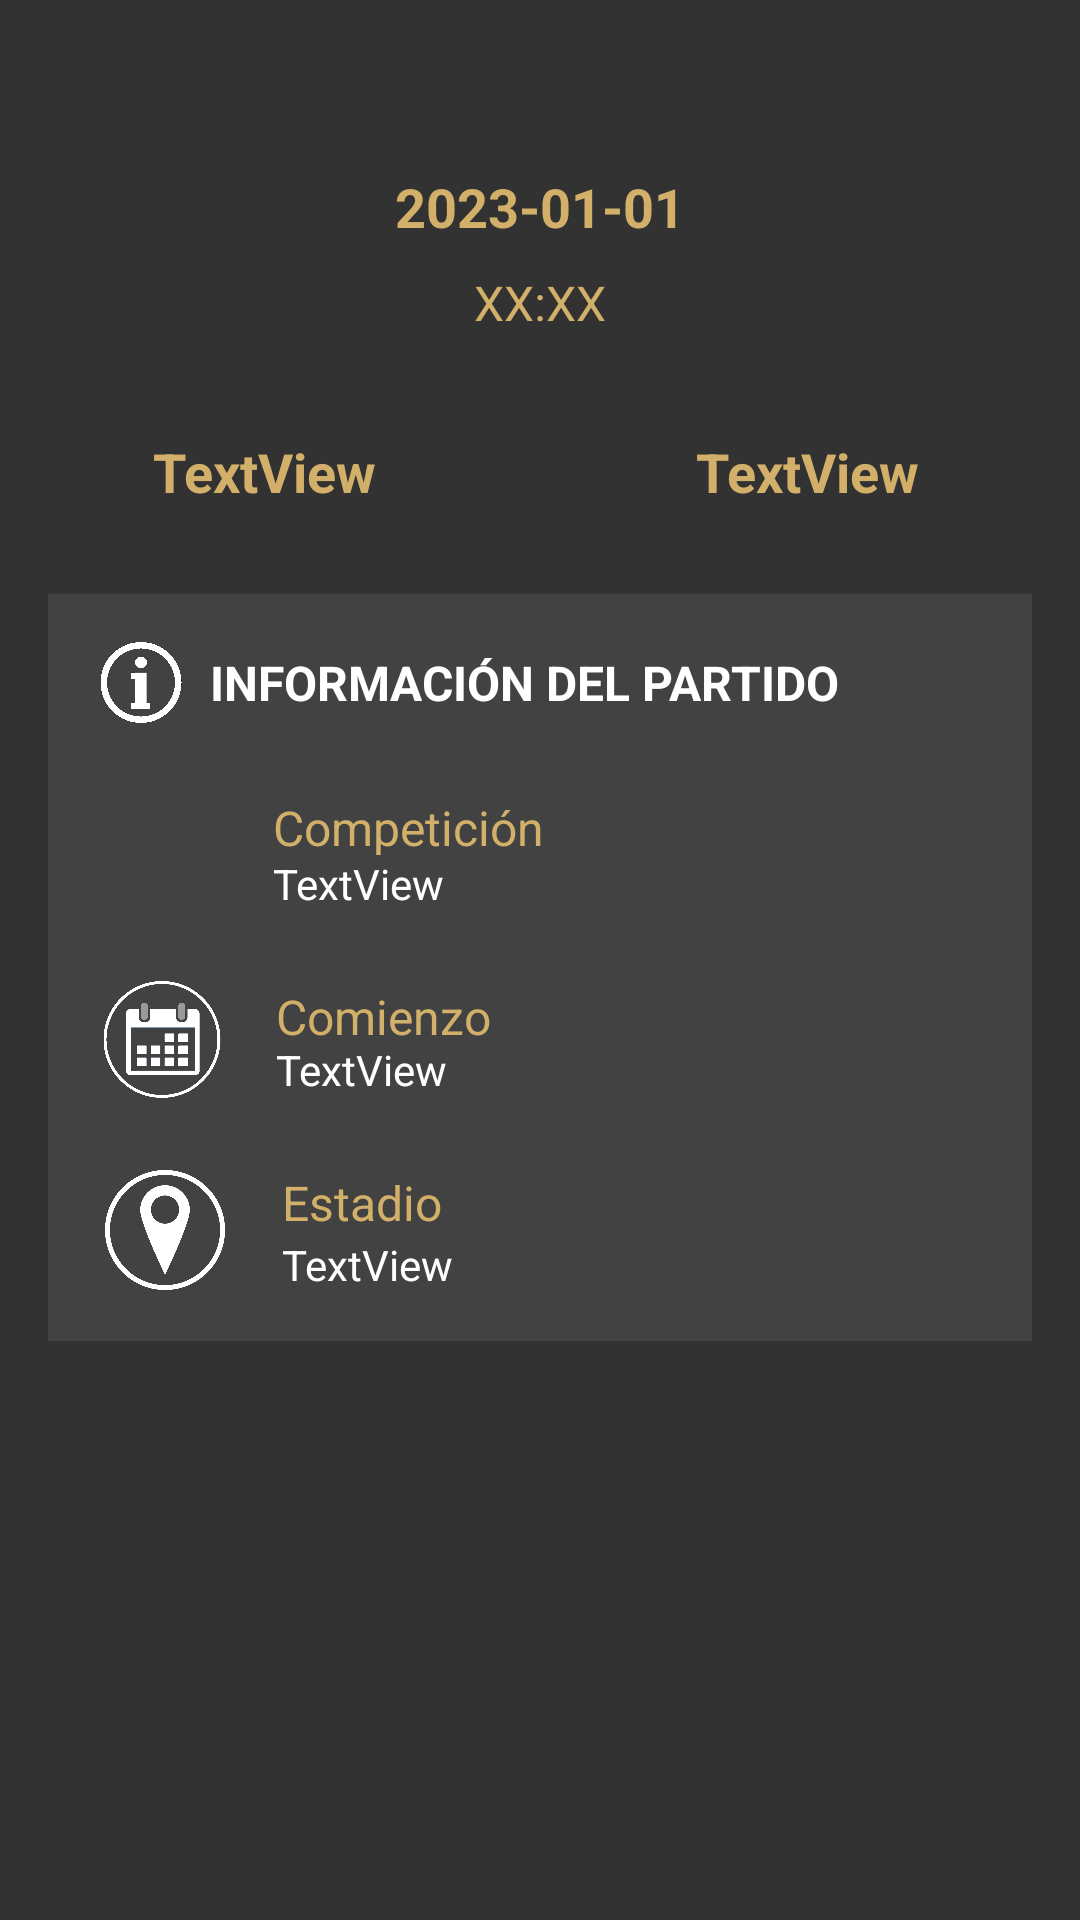

Icon bounding boxes for this 1080×1920 phone screenshot, format (x1, y1, x2, y2):
circle calendar: (104, 981, 221, 1098)
location: (105, 1170, 225, 1290)
